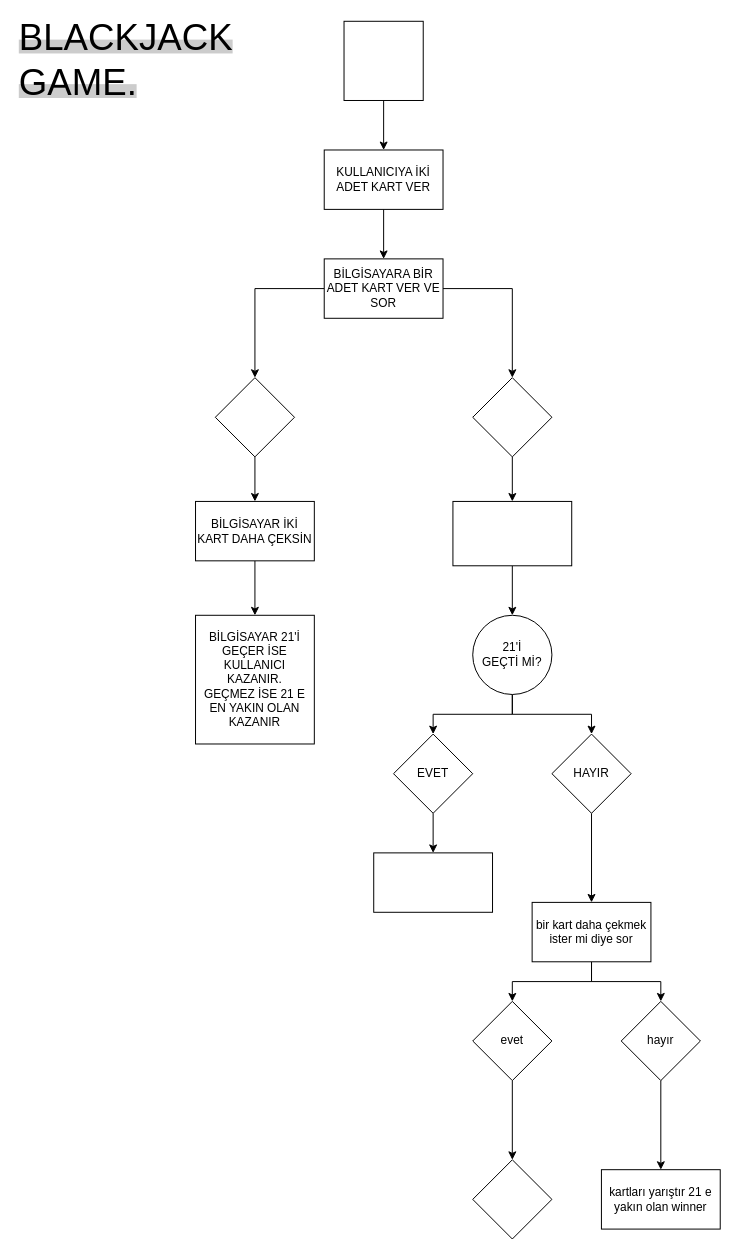
Some shapes in this 738 by 1256 pixel diagram are drawn without their labels. Here are the shapes that lost their labels. From the top down, the centre of each, then its label:
At point (383, 60): "OYUNA BAŞLA".
At point (254, 417): "TAMAM".
At point (512, 417): "DEVAM".
At point (512, 533): "KULLANICIYA BİR KART DAHA VER".
At point (433, 882): "BİLGİSAYAR KAZANDI".
At point (512, 1199): "kart ver".
